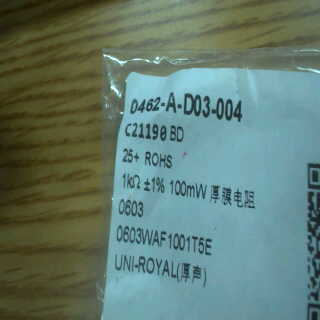1kR: (118, 171, 143, 192)
